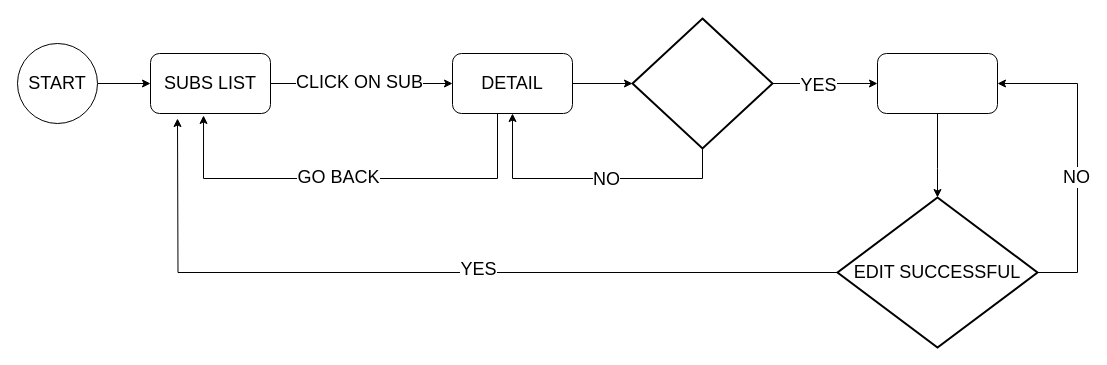
Image size: 1107x365. Some labels were removed from this diagram. Each missing label, with the centre of its shape:
"EDIT" belongs at pixel 937 83.
"IS OWNER" belongs at pixel 702 83.
